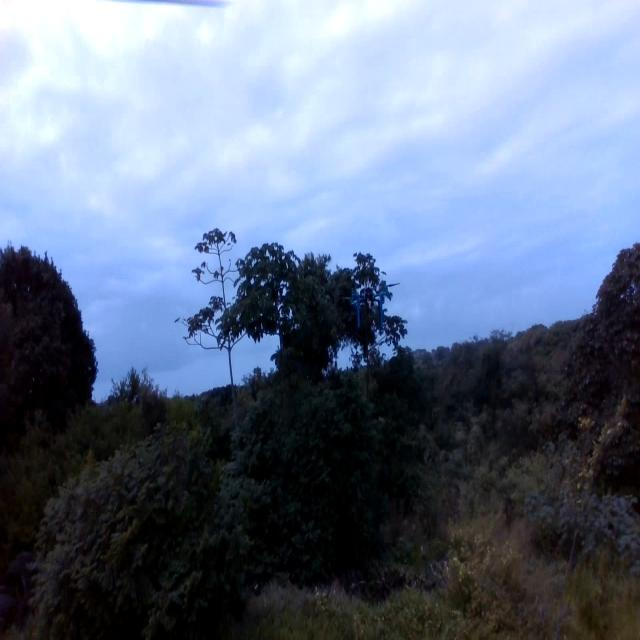-uav-: (347, 278, 402, 338)
